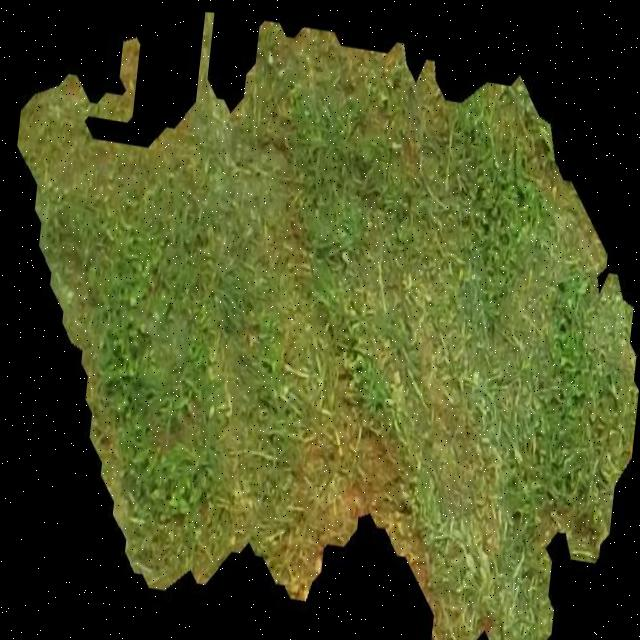Weed: (17, 10, 638, 640)
